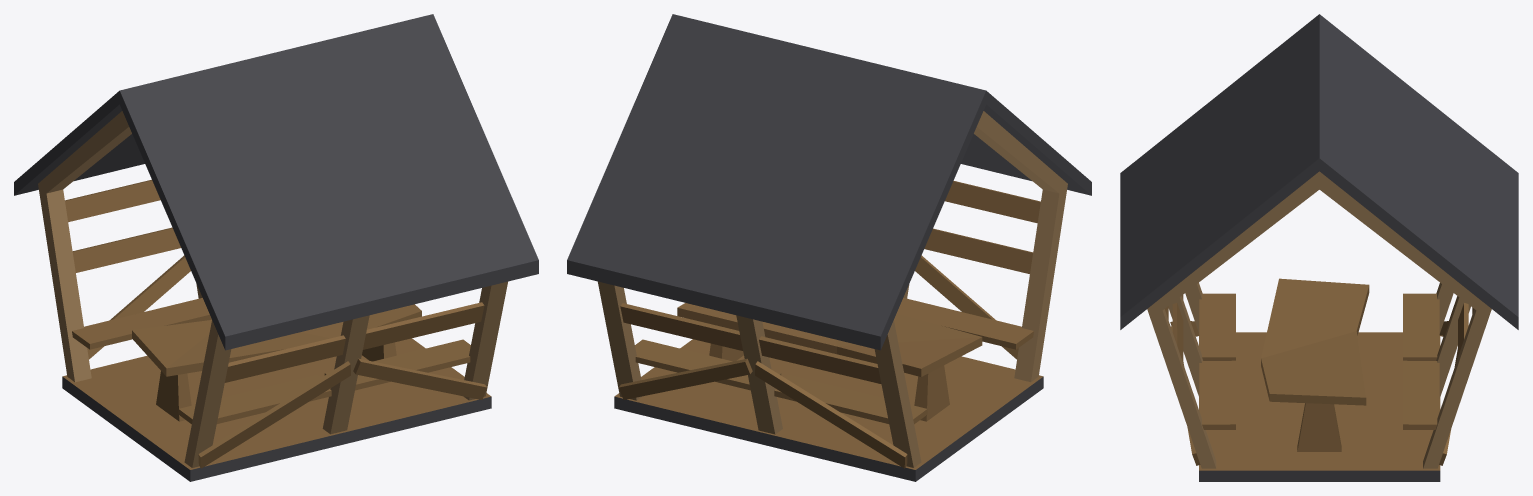
The model's file is besedka_2.fbx.
3 views of the same model, side by side, from view 1: azimuth 30°, elevation 25°; view 2: azimuth 150°, elevation 25°; view 3: azimuth 270°, elevation 25° (orthographic). The views are drawn at different scales.
Visible parts, largest first — view 1: besedka_2; view 2: besedka_2; view 3: besedka_2.
Boxes of the visible parts, bbox=[...] form: besedka_2: bbox=[14, 14, 538, 481]; besedka_2: bbox=[567, 14, 1091, 481]; besedka_2: bbox=[1120, 14, 1518, 481].
Size of the model in its own units: 600 by 633 by 700.
